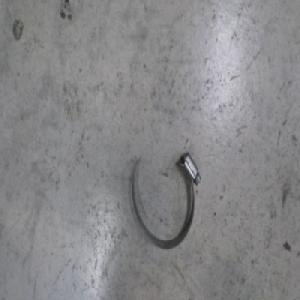AdjustableClamp: (130, 147, 202, 252)
